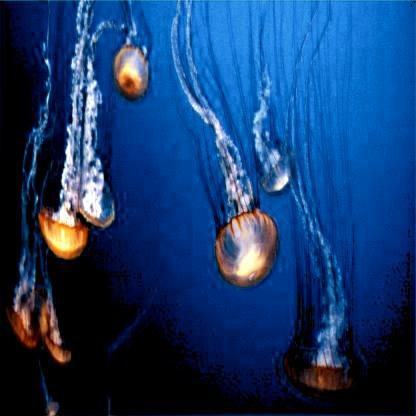Dressed: (168, 15, 279, 287), (282, 196, 363, 401), (46, 8, 96, 258), (11, 37, 47, 350), (78, 20, 117, 230), (248, 74, 299, 200), (111, 17, 149, 99), (41, 282, 73, 366), (39, 369, 62, 416)
